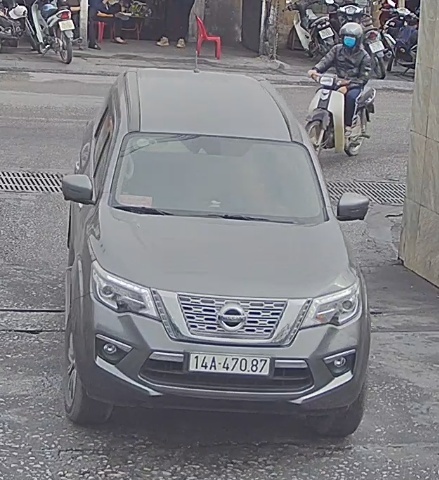vehicle plate: (185, 345, 273, 378)
